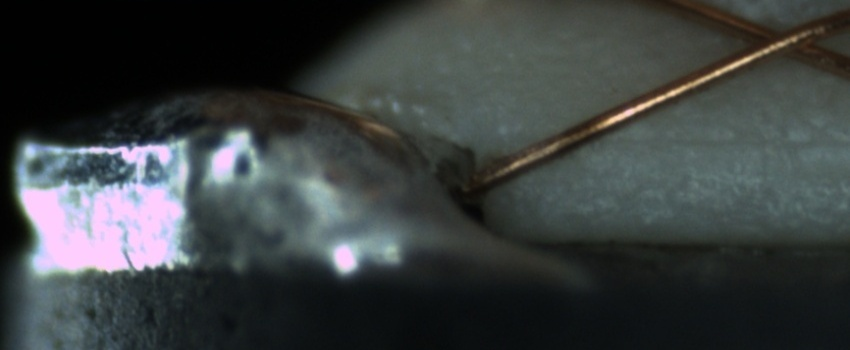CL: (715, 6, 842, 70)
DL: (571, 109, 843, 173)
